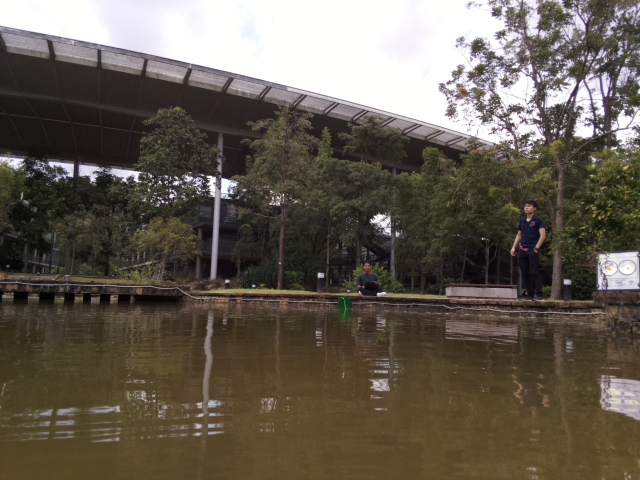obstacle: (338, 295, 352, 311)
